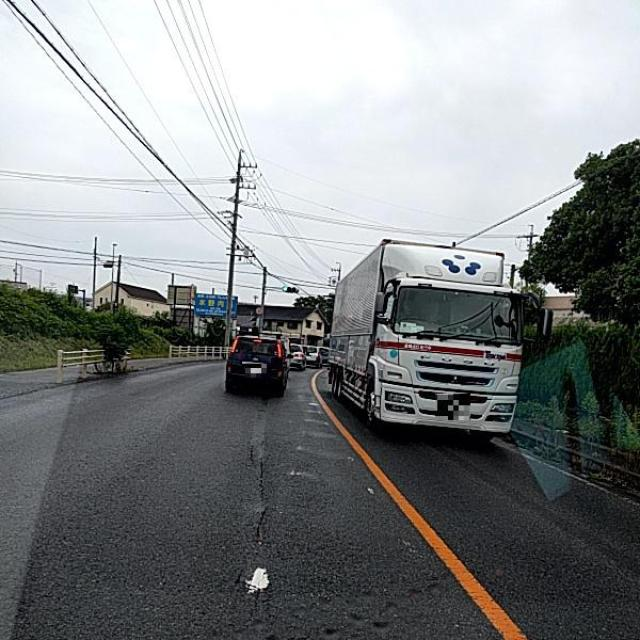Crack: (239, 443, 366, 640)
